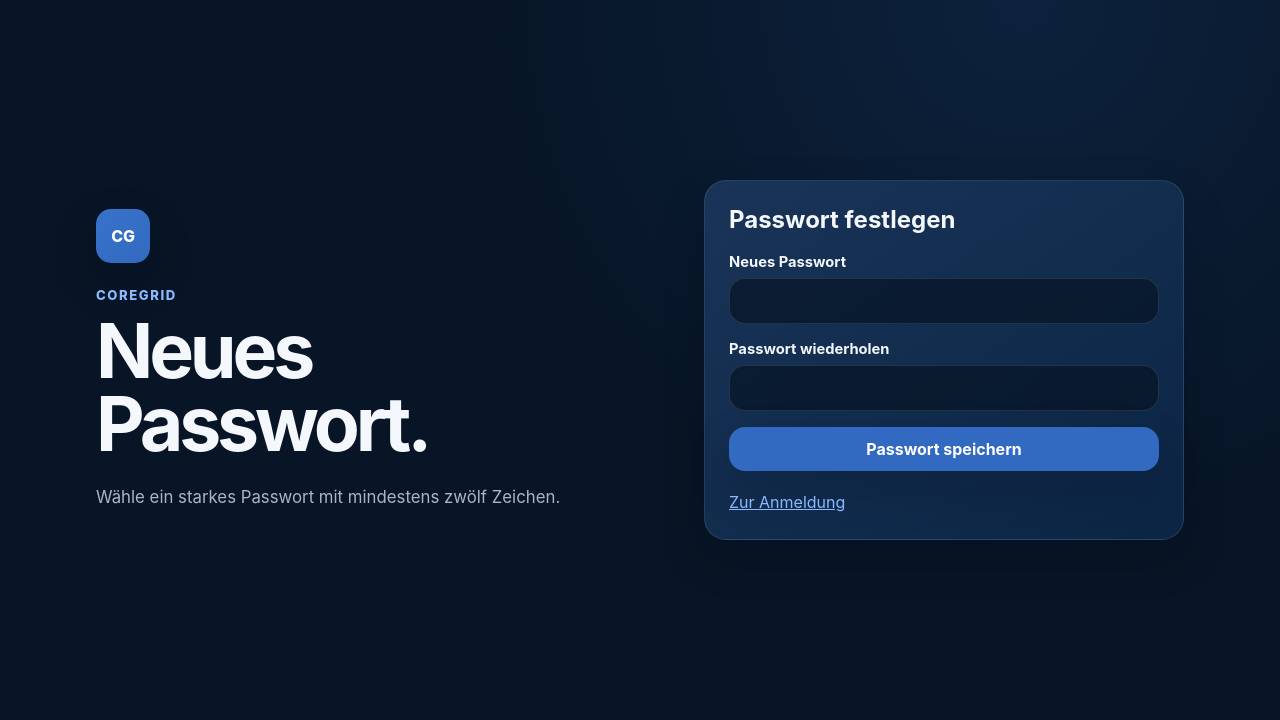
Scenario: authentication pages › enforces the twelve-character password rule
The image size is (1280, 720).
In the password field labelled "Neues Passwort": (944, 301) 729,278 -> 1159,324, type "zu-kurz"
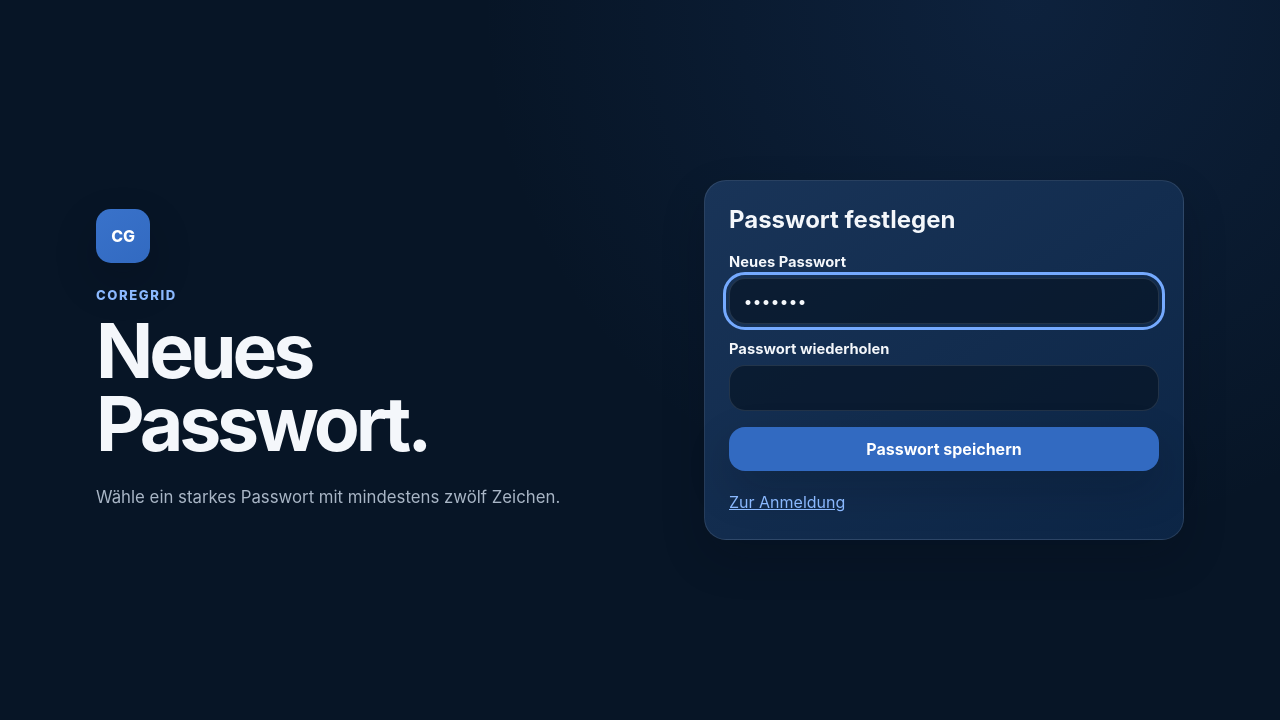
In the password field labelled "Passwort wiederholen": (944, 388) 729,365 -> 1159,411, type "zu-kurz"
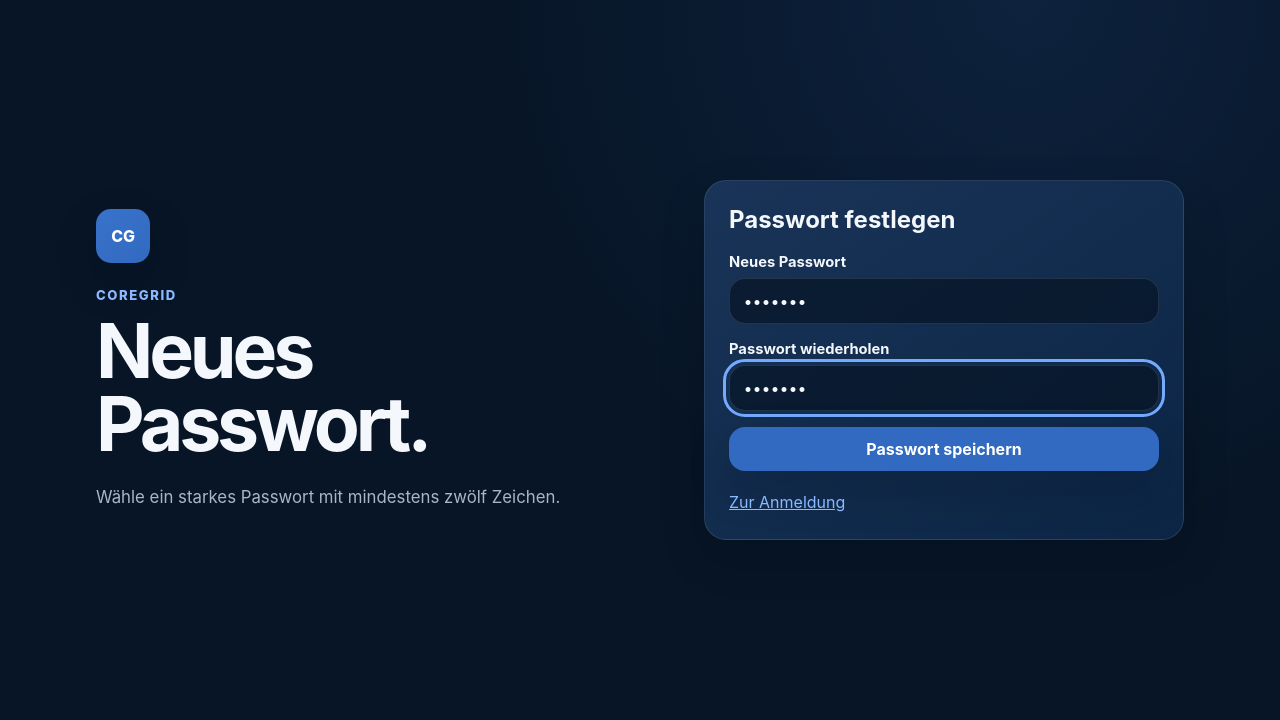
Click the button "Passwort speichern": (944, 449) 729,427 -> 1159,471
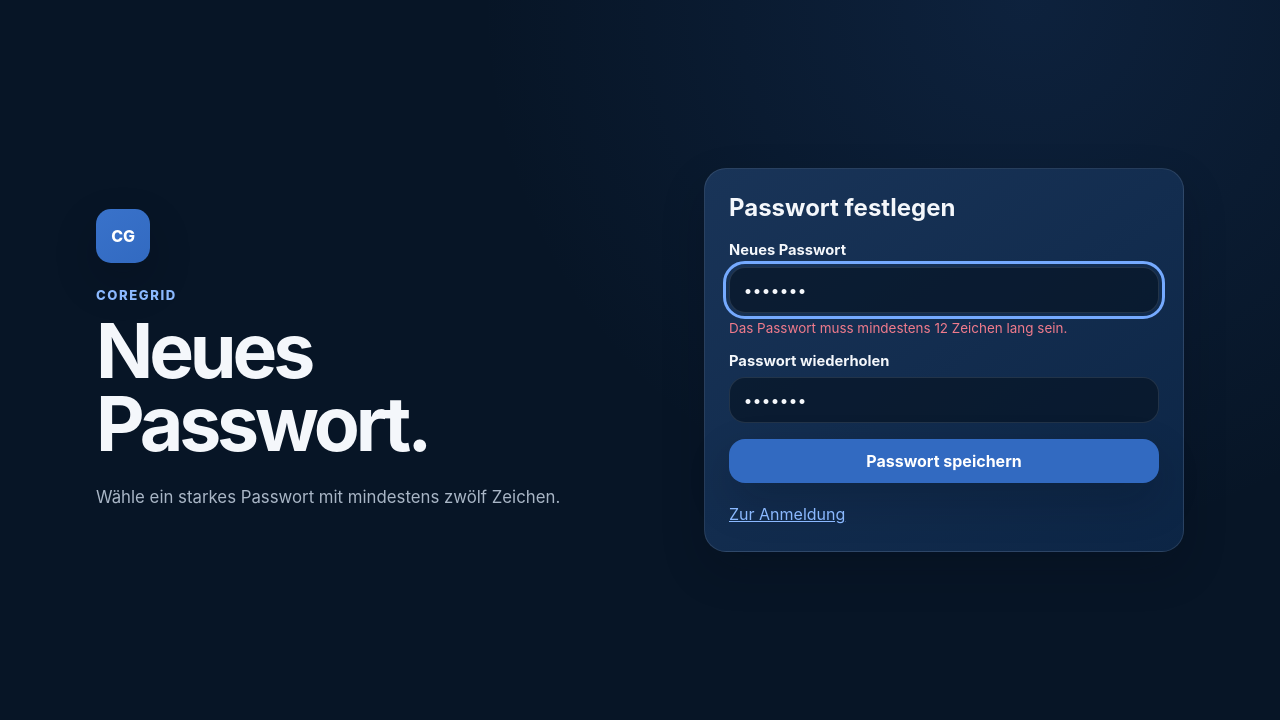
Expected: the text "Das Passwort muss mindestens 12 Zeichen lang sein." is shown, 729,320 -> 1067,336
